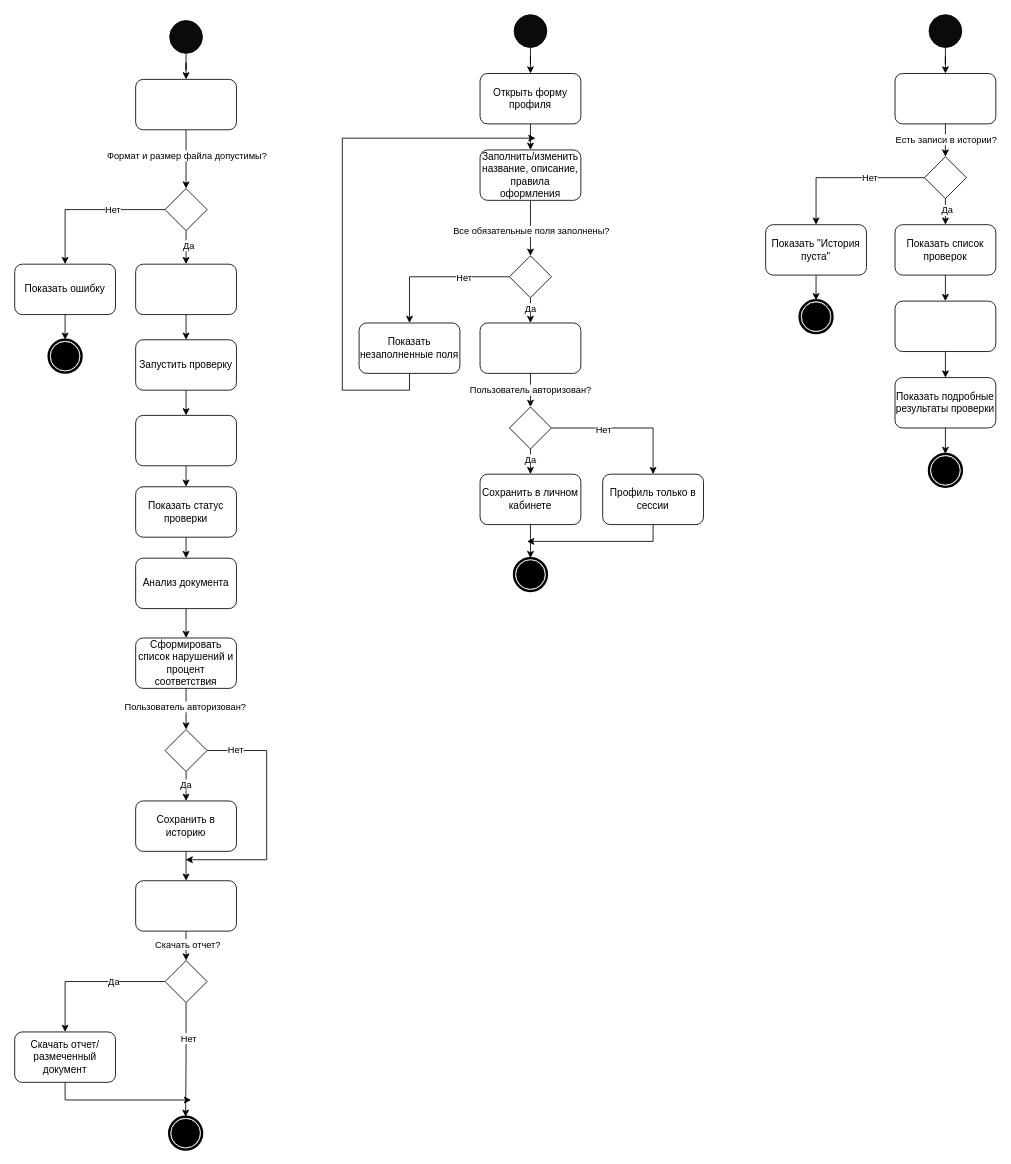
The diagram is 1011 pixels wide and 1164 high, and some of its shapes have lost their labels. The shapes that lost their labels are listed below. From the top down, each one's centre as x and y in pixels, then its label:
pixel 185 104: Загрузить документ
pixel 945 98: Открыть раздел "История"
pixel 185 289: Выбрать профиль
pixel 945 326: Выбрать запись
pixel 530 347: Сформировать профиль
pixel 185 440: Поставить проверку в очередь
pixel 185 905: Отобразить результаты
